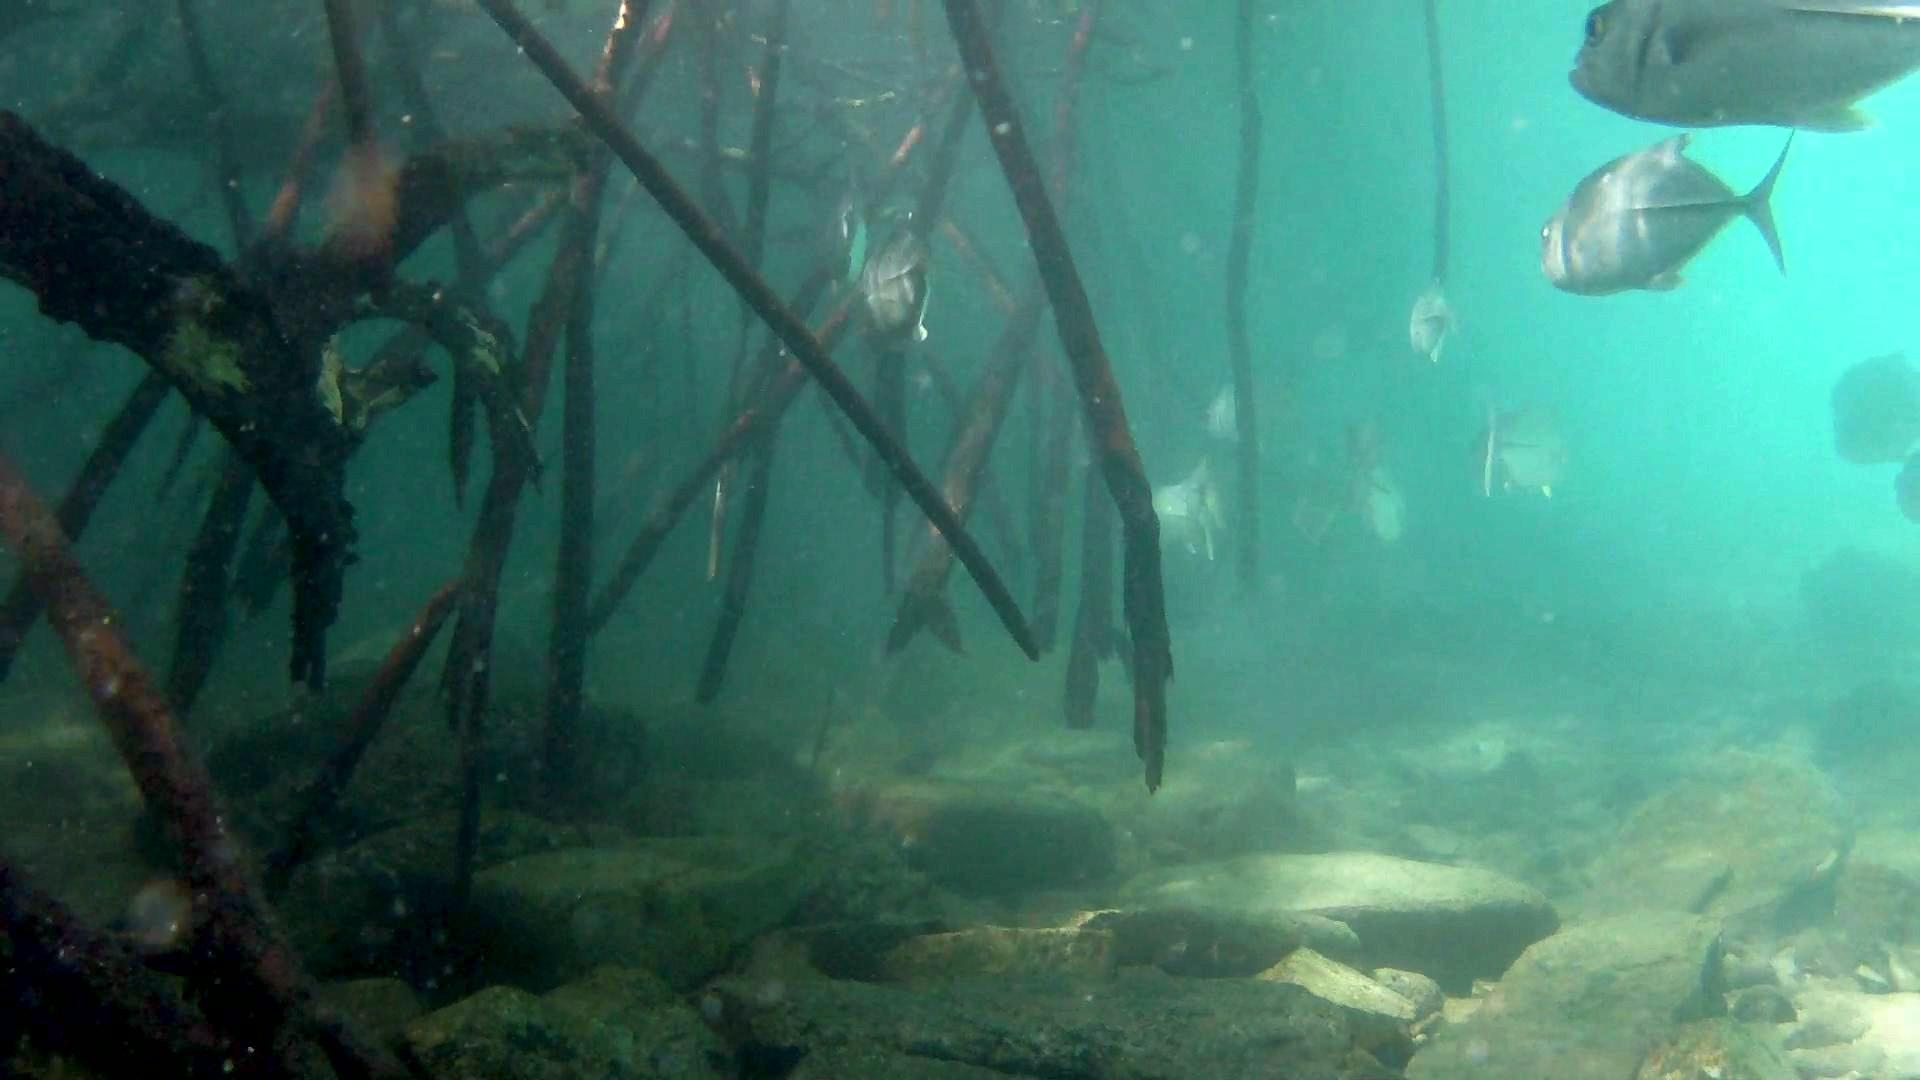caranx: (1558, 0, 1920, 136), (1538, 125, 1795, 307)
